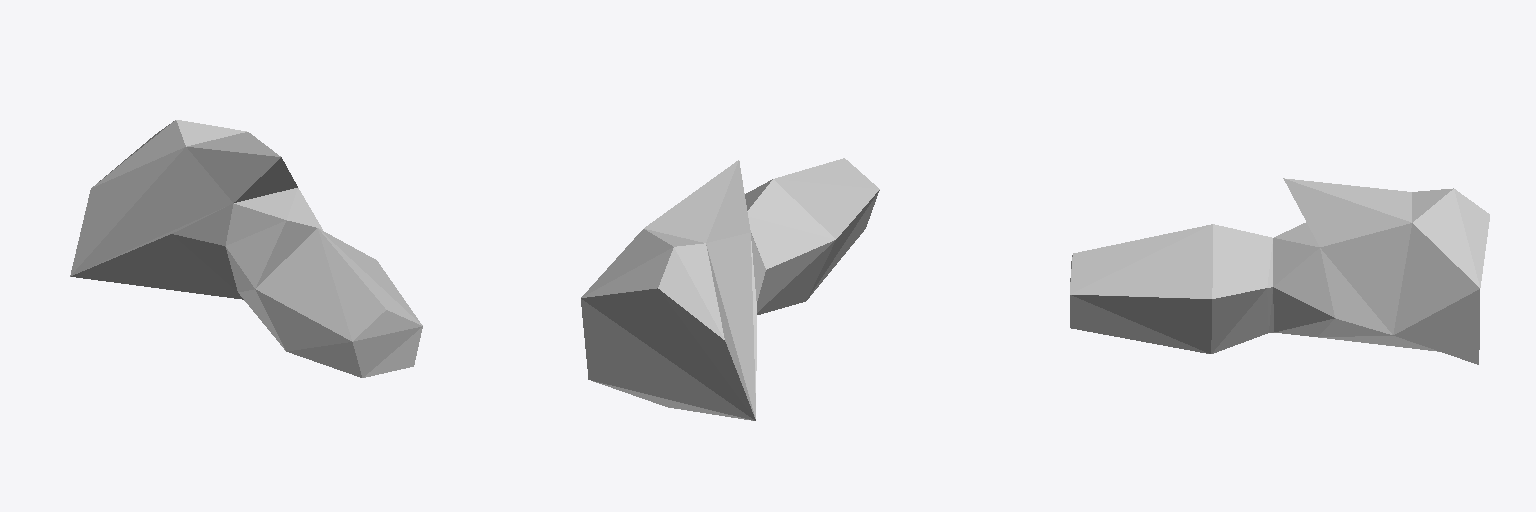
Rendered from Brazo1.obj.
The picture shows the model from 3 angles: view 1: azimuth 30°, elevation 25°; view 2: azimuth 150°, elevation 25°; view 3: azimuth 270°, elevation 25°; orthographic projection.
Visible parts, largest first — view 1: polySurface1 pasted__ob_0601D8F8 group; view 2: polySurface1 pasted__ob_0601D8F8 group; view 3: polySurface1 pasted__ob_0601D8F8 group.
Part boxes in pixels (x1,y1,x2,y2): polySurface1 pasted__ob_0601D8F8 group: (70,120,422,377); polySurface1 pasted__ob_0601D8F8 group: (581,158,879,420); polySurface1 pasted__ob_0601D8F8 group: (1070,178,1489,364).
Size of the model in its own units: 0.2111 by 0.2106 by 0.4414.